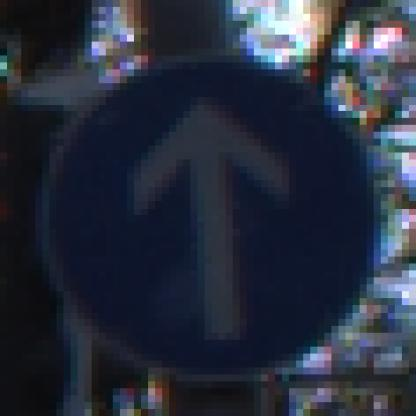AheadOnly: (36, 43, 382, 382)
